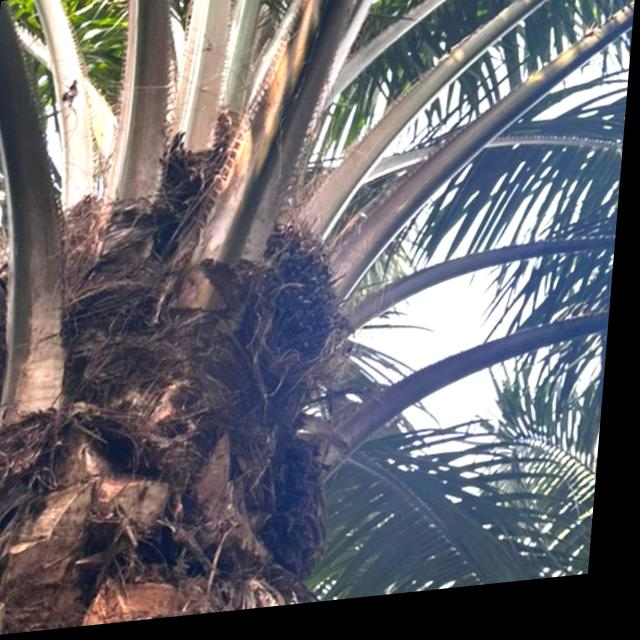unripe: (228, 214, 376, 402)
